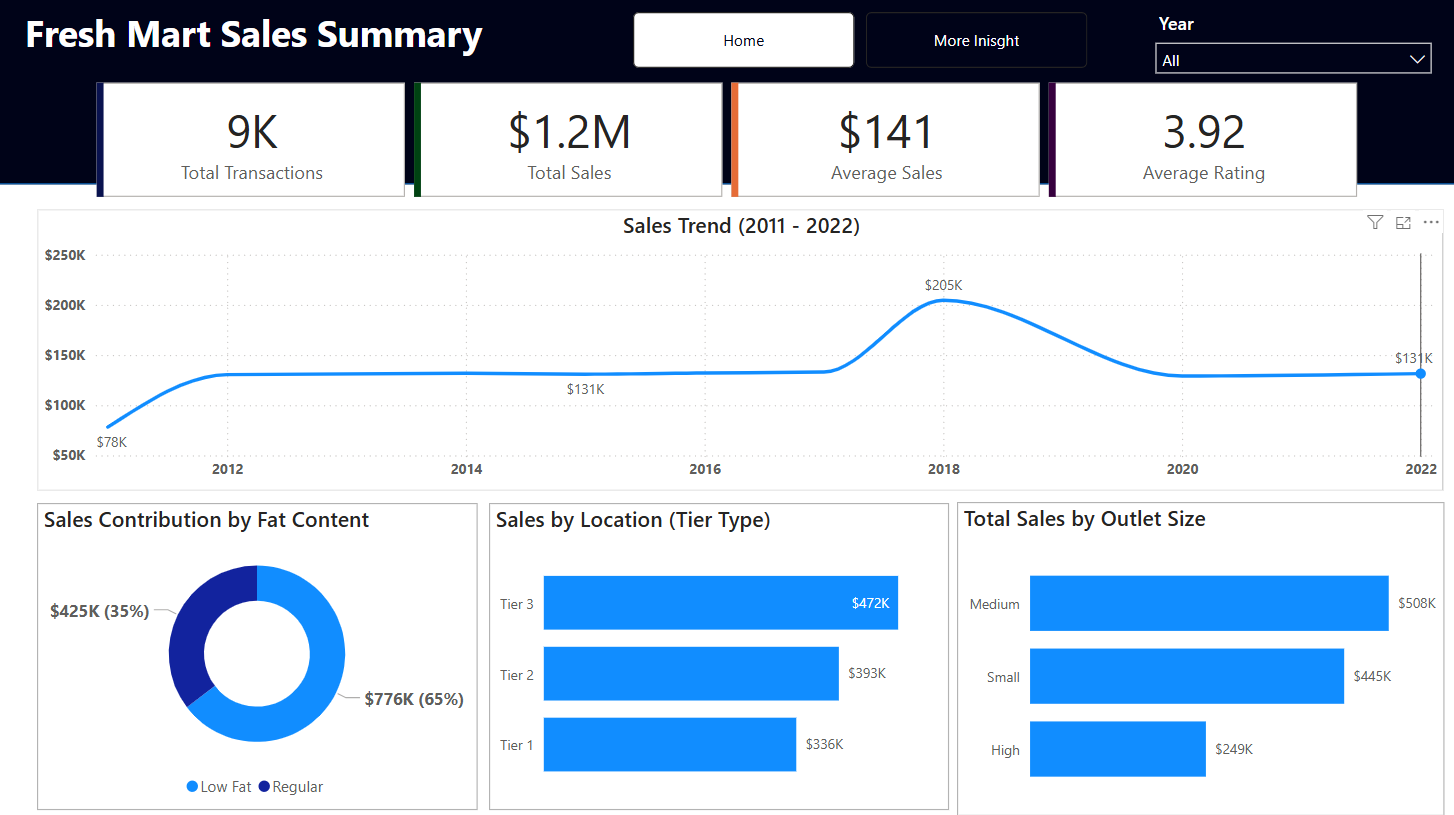

The page's visual inventory and layout, read from the dashboard file:
{"tool":"powerbi","page":{"name":"Home","canvas":[1280,720],"ordinal":0},"visuals":[{"type":"shape","box":[0,2.1,1280,165.3],"z":0},{"type":"cardVisual","fields":{"Data":["_Measure.Total Transactions","_Measure.Total Sales","_Measure.Average Sales","_Measure.Average Rating"]},"box":[81.6,72.3,1117.8,110.5],"z":1000},{"type":"textbox","box":[18.6,6.2,464.9,56.8],"z":2000},{"type":"donutChart","title":"Sales Contribution by Fat Content","fields":{"Category":["FreshMart.Item Fat Content"],"Y":["Sum(FreshMart.Sales)"]},"box":[34.3,445.7,385.7,268.6],"z":3000},{"type":"barChart","title":"Sales by Location (Tier Type)","fields":{"Category":["FreshMart.Outlet Location Type"],"Y":["Sum(FreshMart.Sales)"]},"box":[430,445.7,402.9,268.6],"z":4000},{"type":"barChart","title":"Total Sales by Outlet Size","fields":{"Category":["FreshMart.Outlet Size"],"Y":["Sum(FreshMart.Sales)"]},"box":[839.9,445.3,426.7,274.8],"z":5000},{"type":"slicer","fields":{"Values":["FreshMart.Outlet Establishment Year"]},"box":[1004.2,9.3,262.4,61],"z":6000},{"type":"lineChart","title":"Sales Trend (2011 - 2022)","fields":{"Y":["Sum(FreshMart.Sales)"],"Category":["FreshMart.Outlet Establishment Year"]},"box":[34.1,188,1232.5,246.9],"z":7000},{"type":"pageNavigator","box":[555.8,15.5,399.8,49.6],"z":8000}]}

Visuals, with their boxes in screenshot pixels (x1, y1, x2, y2), scaled from the page's 1280x720 canvas onto the 1454x815 screenshot:
shape: rect(0, 2, 1453, 189)
cardVisual - _Measure.Total Transactions x _Measure.Total Sales: rect(93, 82, 1362, 207)
textbox: rect(21, 7, 549, 71)
"Sales Contribution by Fat Content" donutChart: rect(39, 505, 477, 809)
"Sales by Location (Tier Type)" barChart: rect(488, 505, 946, 809)
"Total Sales by Outlet Size" barChart: rect(954, 504, 1439, 814)
slicer - FreshMart.Outlet Establishment Year: rect(1141, 11, 1439, 80)
"Sales Trend (2011 - 2022)" lineChart: rect(39, 213, 1439, 492)
pageNavigator: rect(631, 18, 1086, 74)
